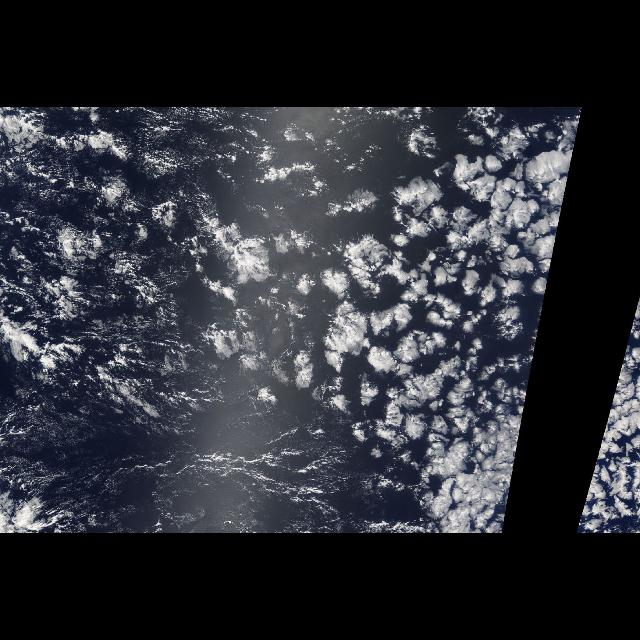Flower: (152, 111, 582, 534), (574, 291, 640, 533)
Gravel: (1, 107, 220, 453)
Sugar: (52, 434, 186, 514)
